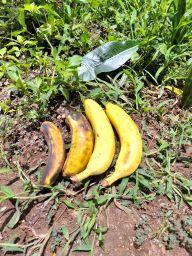banana: (68, 97, 117, 186), (99, 101, 144, 190), (56, 102, 98, 180), (37, 119, 66, 194)
